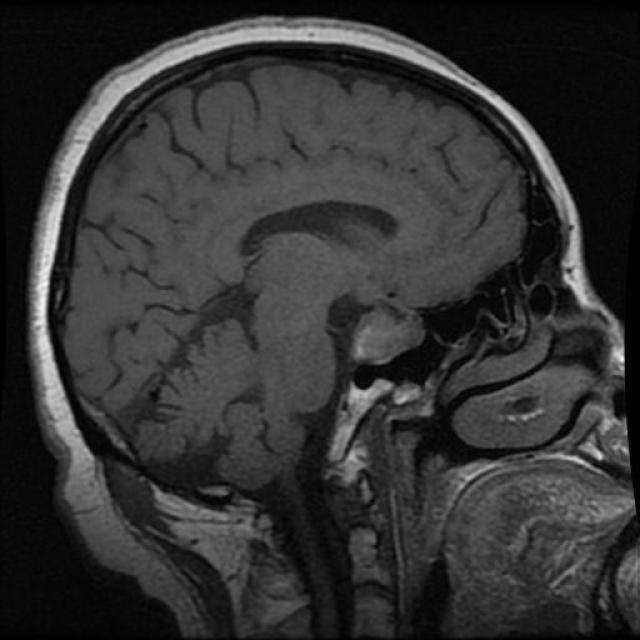pituitary: (318, 290, 443, 410)
